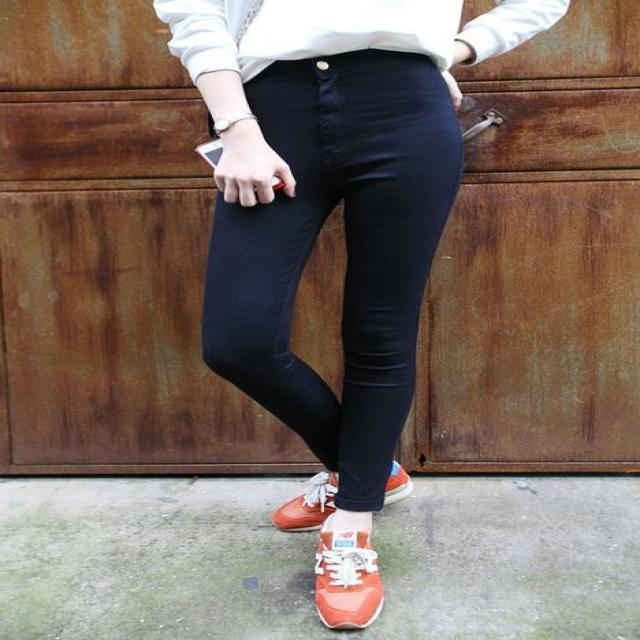long sleeve top: (226, 2, 466, 77), (149, 2, 239, 82)
trousers: (205, 55, 459, 509)
